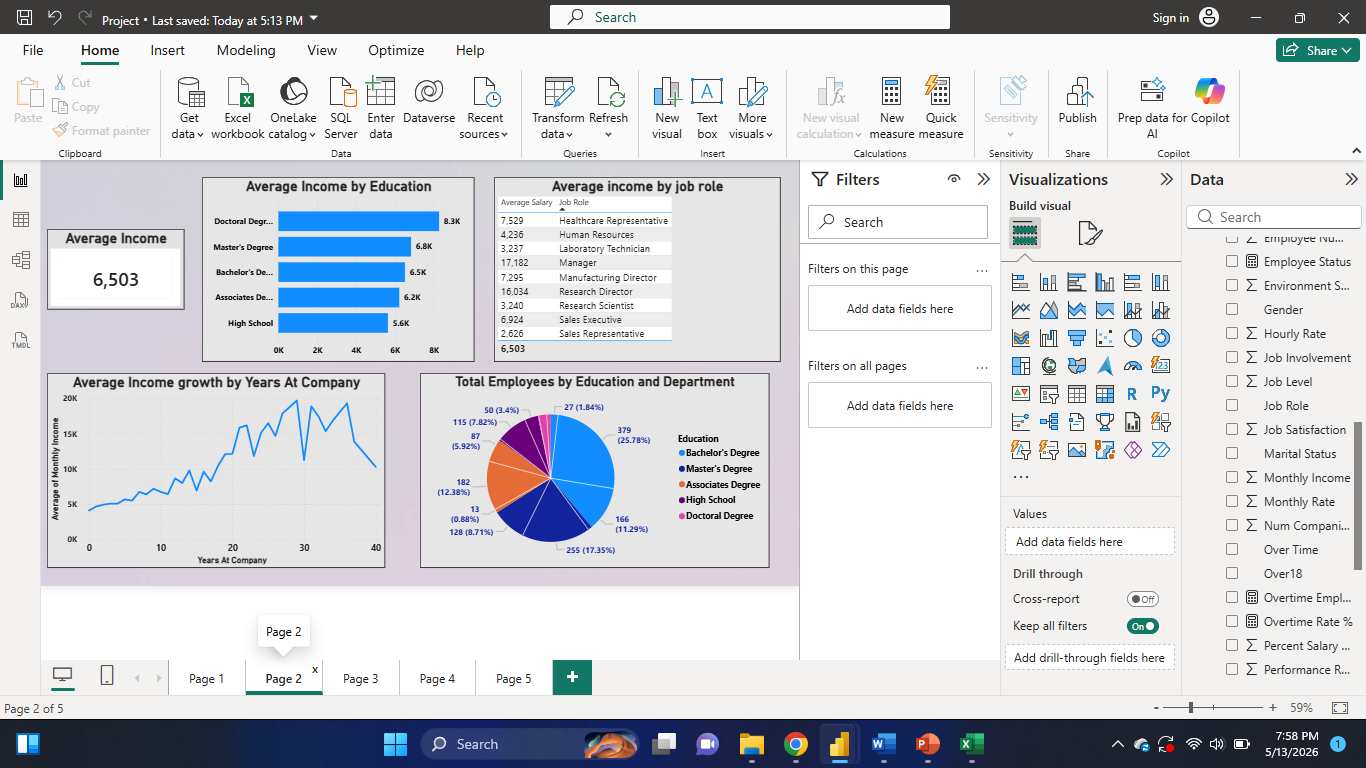

The page's visual inventory and layout, read from the dashboard file:
{"tool":"powerbi","page":{"name":"Page 2","canvas":[1280,720],"ordinal":1},"visuals":[{"type":"lineChart","title":"Average Income growth by Years At Company","fields":{"Category":["HR data.Years At Company"],"Y":["Avg(HR data.Monthly Income)"]},"box":[10.1,359.5,571.1,329.2],"z":0},{"type":"pieChart","title":"Total Employees by Education and Department","fields":{"Category":["HR data.Education"],"Y":["Sum(HR data.Employee Count)"],"Series":["HR data.Department"]},"box":[640,359.5,589.6,329.2],"z":1000},{"type":"barChart","title":"Average Income by Education","fields":{"Category":["HR data.Education"],"Y":["Avg(HR data.Monthly Income)"]},"box":[272.1,28.6,460.3,312.4],"z":2000},{"type":"cardVisual","title":"Average Income","fields":{"Data":["HR data.Average Salary"]},"box":[10.1,115.9,231.8,136.1],"z":3000},{"type":"tableEx","title":"Average income by job role","fields":{"Values":["HR data.Average Salary","HR data.Job Role"]},"box":[764.3,28.6,483.8,312.4],"z":4000}]}

Visuals, with their boxes on the page's 1280x720 design canvas (x1, y1, x2, y2). These are canvas units, not pixel positions in the 1366x768 screenshot, which may show the page scaled, cropped or inside an application window:
"Average Income growth by Years At Company" lineChart: (left=10, top=360, right=581, bottom=689)
"Total Employees by Education and Department" pieChart: (left=640, top=360, right=1230, bottom=689)
"Average Income by Education" barChart: (left=272, top=29, right=732, bottom=341)
"Average Income" cardVisual: (left=10, top=116, right=242, bottom=252)
"Average income by job role" tableEx: (left=764, top=29, right=1248, bottom=341)
